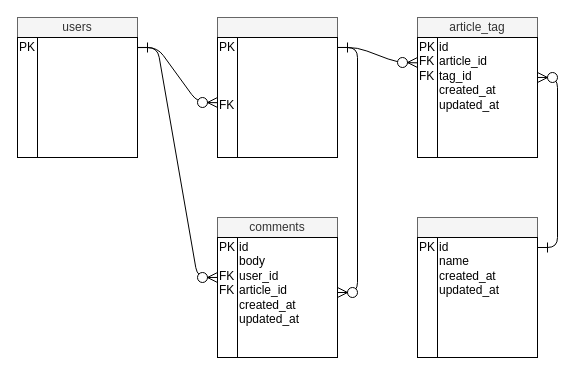
Some shapes in this 576 by 375 pixel diagram are drawn without their labels. Each missing label, with the centre of its shape:
"articles" belongs at point (277, 27).
"id image title body user_id created_at updated_at" belongs at point (287, 97).
"id name email email_verified_at password remember_token created_at updated_at" belongs at point (87, 97).
"tags" belongs at point (477, 227).
